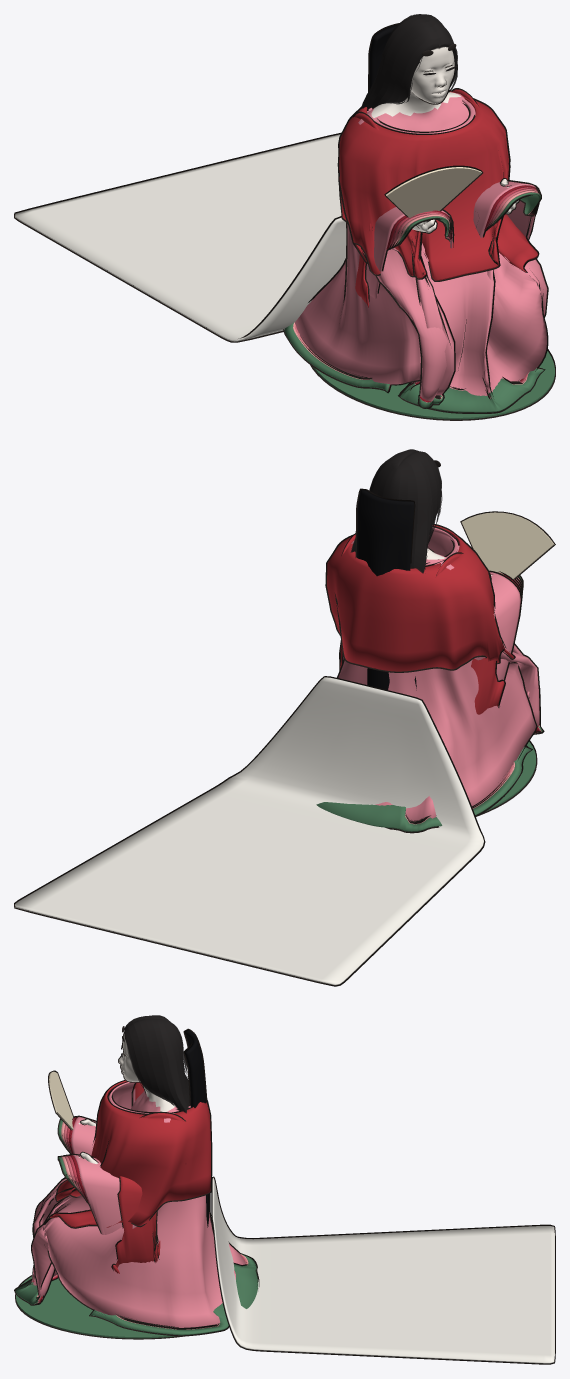
Rendered from nyo_nyobo.glb.
The picture shows the model from 3 angles, top to bottom: view 1: azimuth 30°, elevation 25°; view 2: azimuth 150°, elevation 25°; view 3: azimuth 270°, elevation 25°; orthographic projection. The views are drawn at different scales.
Parts seen in each view (by area): view 1: mo, uchiki, karaginu, Human, Human.long01, kasane5, soko, ougi, uchiki_sen, karaginu_sen, mo_sen, sode.L (+5 smaller); view 2: mo, karaginu, uchiki, kami, Human.long01, ougi, kasane5, mo_sen, sode.R, karaginu_sode.R, karaginu_sen; view 3: mo, uchiki, karaginu, Human.long01, soko, karaginu_sode.L, kasane5, sode.L, mo_sen, Human, kami, uchiki_sen (+4 smaller).
Part boxes in pixels (<box>): mo: <box>15,134,346,341</box>; uchiki: <box>295,99,547,401</box>; karaginu: <box>339,91,537,280</box>; Human: <box>358,47,518,232</box>; Human.long01: <box>361,14,457,109</box>; kasane5: <box>284,323,543,412</box>; soko: <box>313,351,554,419</box>; ougi: <box>386,167,481,226</box>; uchiki_sen: <box>308,103,548,404</box>; karaginu_sen: <box>337,90,539,281</box>; mo_sen: <box>14,133,341,342</box>; sode.L: <box>473,181,535,238</box>; mo: <box>15,677,483,985</box>; karaginu: <box>327,525,514,671</box>; uchiki: <box>338,527,539,821</box>; kami: <box>357,489,416,690</box>; Human.long01: <box>350,449,442,573</box>; ougi: <box>461,512,554,578</box>; kasane5: <box>316,726,542,831</box>; mo_sen: <box>14,676,485,986</box>; sode.R: <box>489,572,520,680</box>; karaginu_sode.R: <box>435,553,504,714</box>; karaginu_sen: <box>325,524,515,672</box>; mo: <box>212,1177,554,1363</box>; uchiki: <box>31,1082,245,1327</box>; karaginu: <box>50,1080,210,1227</box>; Human.long01: <box>124,1015,189,1113</box>; soko: <box>16,1276,174,1338</box>; karaginu_sode.L: <box>112,1113,186,1273</box>; kasane5: <box>15,1254,258,1335</box>; sode.L: <box>72,1155,159,1244</box>; mo_sen: <box>211,1176,555,1364</box>; Human: <box>78,1034,177,1163</box>; kami: <box>184,1030,209,1227</box>; uchiki_sen: <box>31,1081,246,1311</box>.
Size of the model in its own units: 0.91 by 0.8667 by 1.52.
16 materials, 1 textured.
